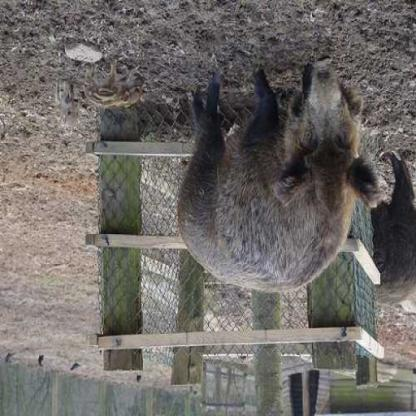boar: (167, 48, 377, 293)
